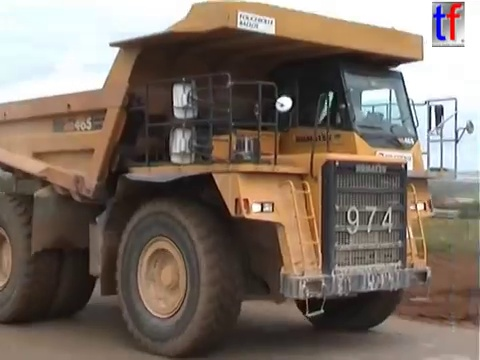truck: (1, 1, 476, 360)
